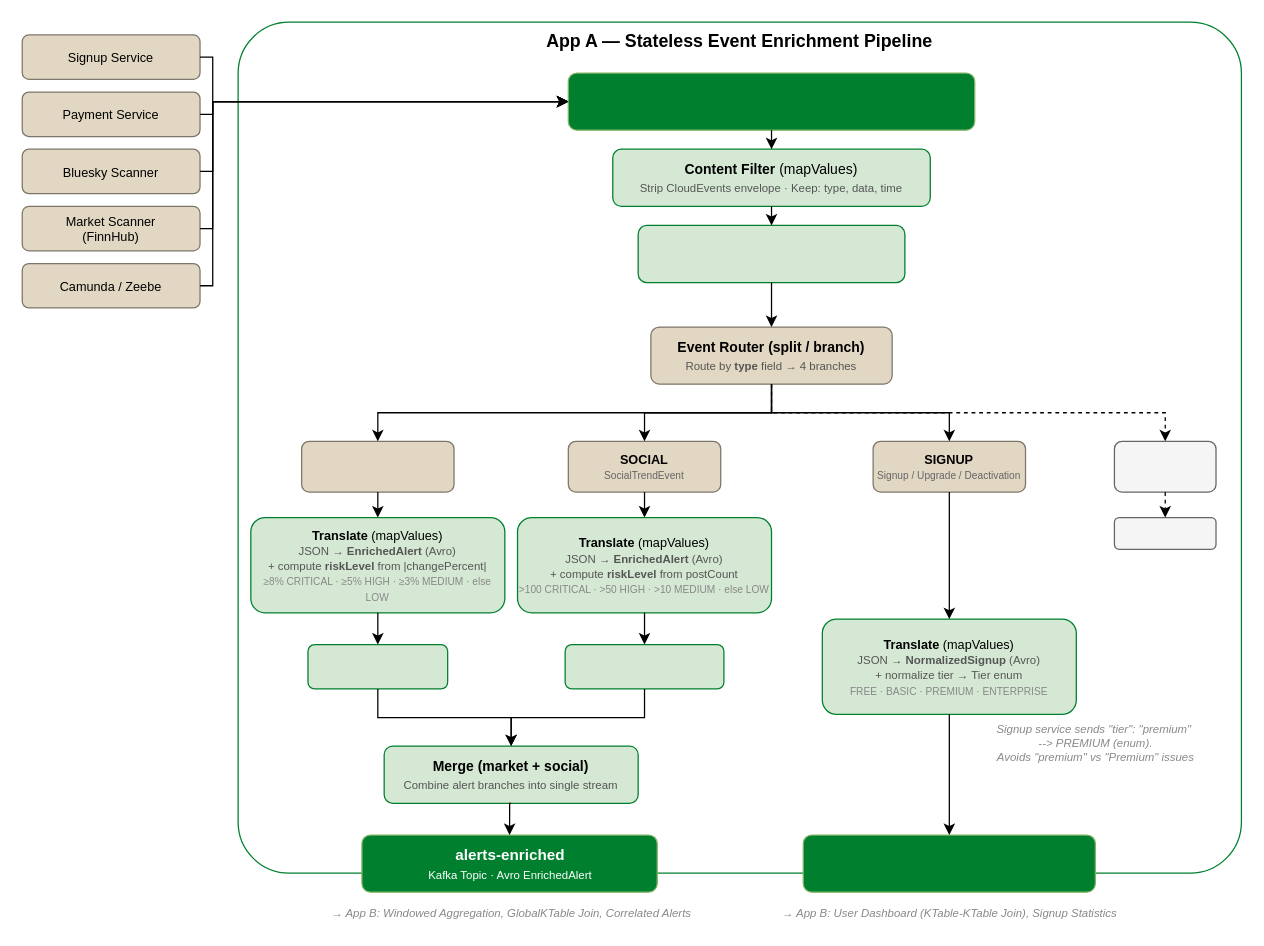
This 1264x946 diagram has some shape labels left out. The centre of each missing label's shape, as x and y in pixels:
discarded: (x=1164, y=532)
Event Filter (filter) Drop malformed events: null type or missing data: (x=771, y=253)
MARKET MarketAlertEvent: (x=377, y=466)
OTHER (dropped): (x=1164, y=466)
selectKey (symbol) e.g. "AAPL", "CL=F": (x=377, y=666)
selectKey (topic) e.g. "Iran oil strike": (x=644, y=666)
signups-normalized Kafka Topic · Avro NormalizedSignup: (x=948, y=863)
worldpulse Kafka Topic · JSON CloudEvents: (x=771, y=101)
